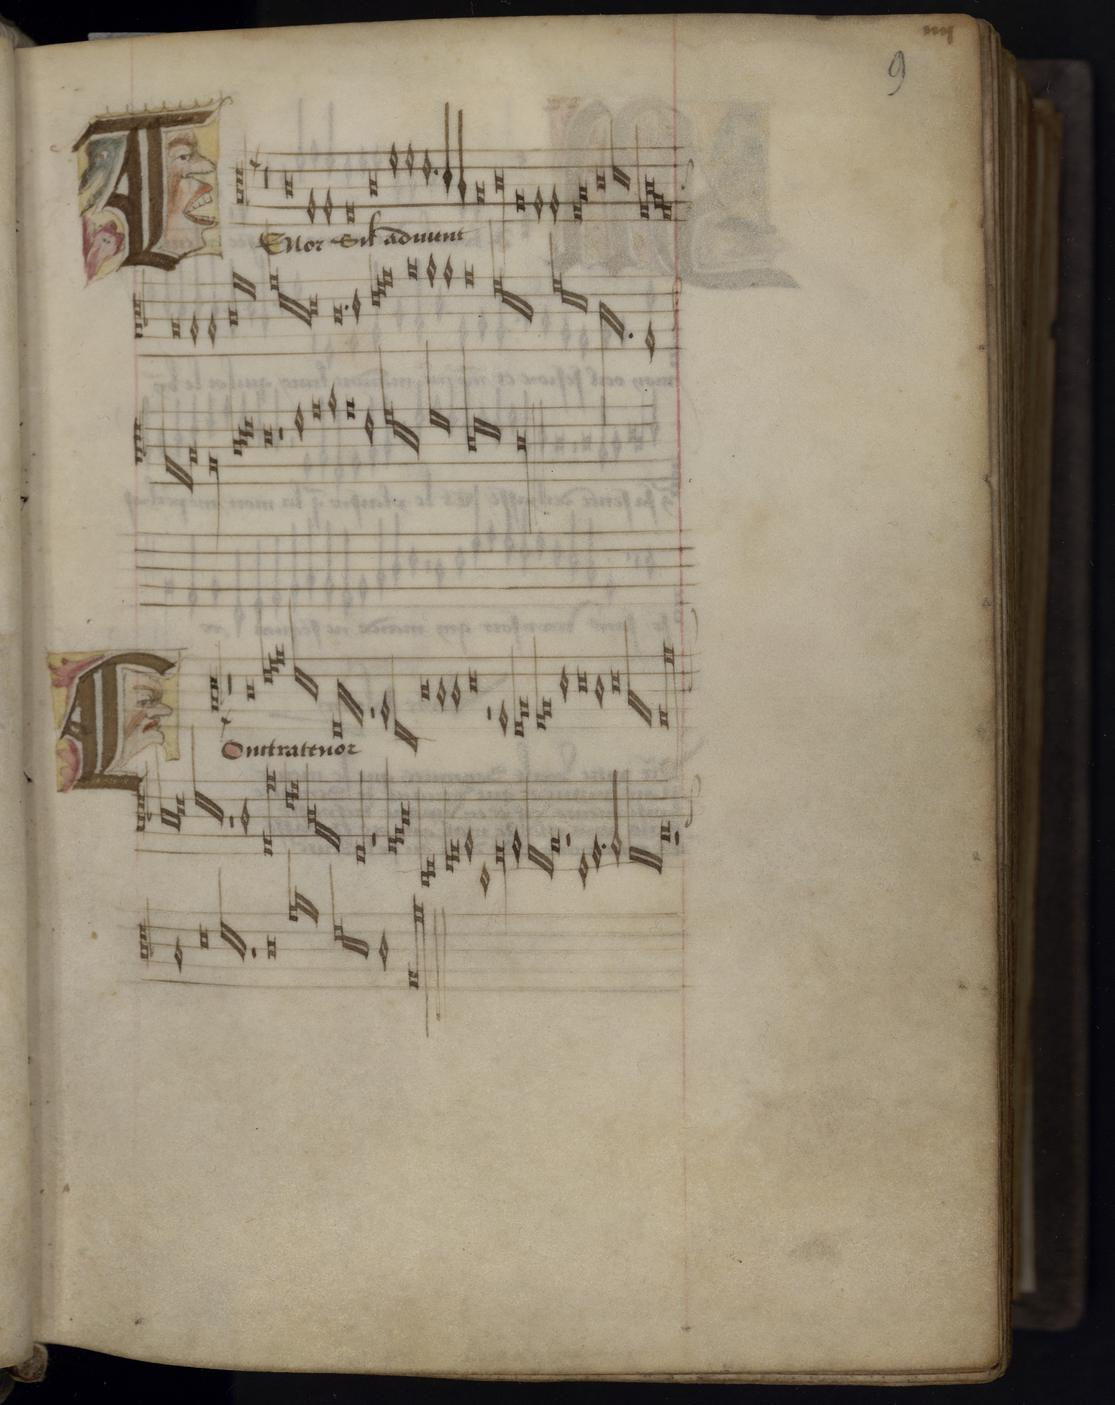breve_10: (545, 823, 563, 856)
c clef_7: (130, 783, 147, 842)
custos_8: (679, 787, 698, 835)
dot: (597, 834, 612, 854)
flat_8: (143, 782, 156, 829)
l1breve_10: (258, 779, 270, 852)
l1semibreve_10: (383, 761, 394, 856)
l1semibreve_12: (443, 780, 453, 876)
l1semibreve_14: (417, 806, 428, 890)
l1semibreve_5: (280, 763, 292, 817)
l1semibreve_7: (306, 766, 324, 825)
l2breve_3: (266, 763, 276, 852)
l2breve_6: (172, 791, 188, 822)
l2breve_7: (401, 799, 413, 823)
l2breve_9: (656, 813, 673, 868)
l2semibreve_11: (451, 837, 461, 867)
l2semibreve_13: (426, 855, 438, 876)
l2semibreve_4: (288, 774, 301, 798)
l2semibreve_9: (394, 827, 405, 851)
longa_11: (352, 772, 369, 866), (491, 831, 510, 916)
minim_10: (607, 770, 625, 872)
o1semibreve_11: (620, 770, 642, 880), (520, 771, 538, 884)
o1semibreve_5: (192, 736, 207, 822)
o1semibreve_7: (153, 757, 170, 834)
o2breve_10: (328, 809, 345, 856)
o2semibreve_12: (638, 773, 658, 880)
o2semibreve_13: (534, 779, 552, 880)
o2semibreve_7: (210, 758, 230, 831)
o2semibreve_8: (166, 768, 179, 833), (316, 810, 327, 861)
semibreve rest: (367, 752, 381, 864), (225, 769, 239, 862), (561, 772, 575, 866), (668, 788, 681, 868)
semibreve_10: (507, 822, 524, 869), (465, 823, 478, 866)
semibreve_11: (587, 827, 603, 875)
semibreve_13: (572, 845, 592, 888)
semibreve_14: (479, 859, 494, 896)
semibreve_7: (236, 790, 255, 842)
